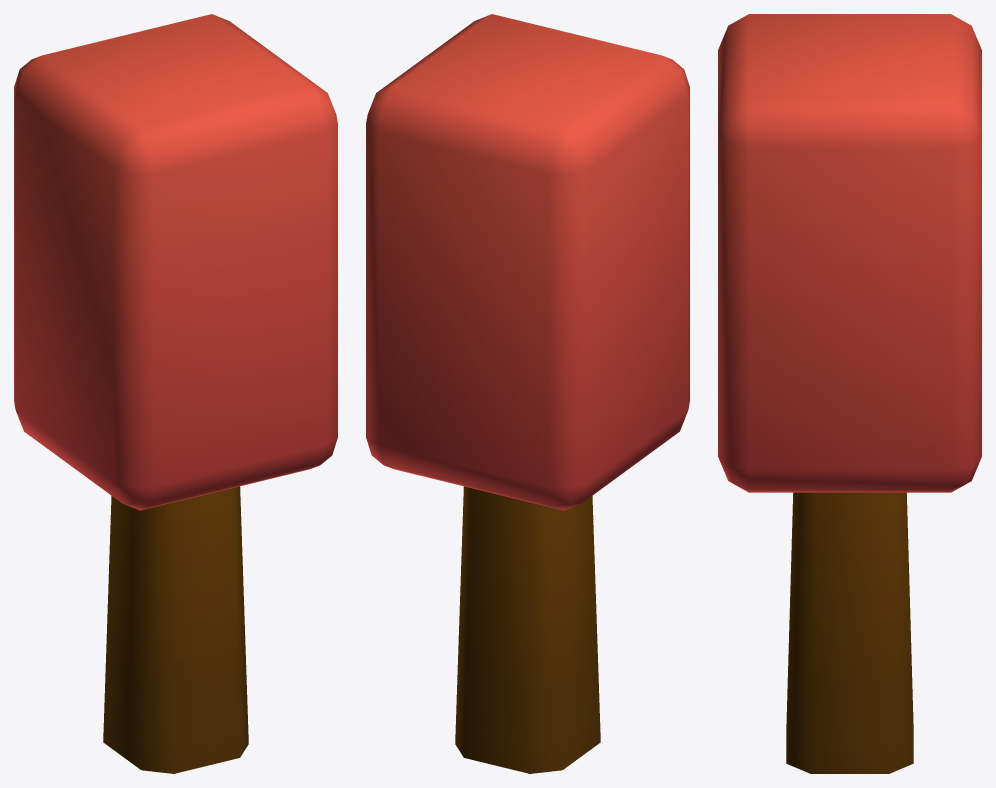
File: Tree_E_3_.fbx
The picture shows the model from 3 angles, left to right: view 1: azimuth 30°, elevation 25°; view 2: azimuth 150°, elevation 25°; view 3: azimuth 270°, elevation 25°; orthographic projection. The views are drawn at different scales.
Visible parts, largest first — view 1: Tree_E_3; view 2: Tree_E_3; view 3: Tree_E_3.
Boxes of the visible parts, bbox=[...] form: Tree_E_3: bbox=[14, 14, 337, 773]; Tree_E_3: bbox=[366, 14, 689, 773]; Tree_E_3: bbox=[718, 14, 981, 773].
Size of the model in its own units: 121 by 348 by 121.
